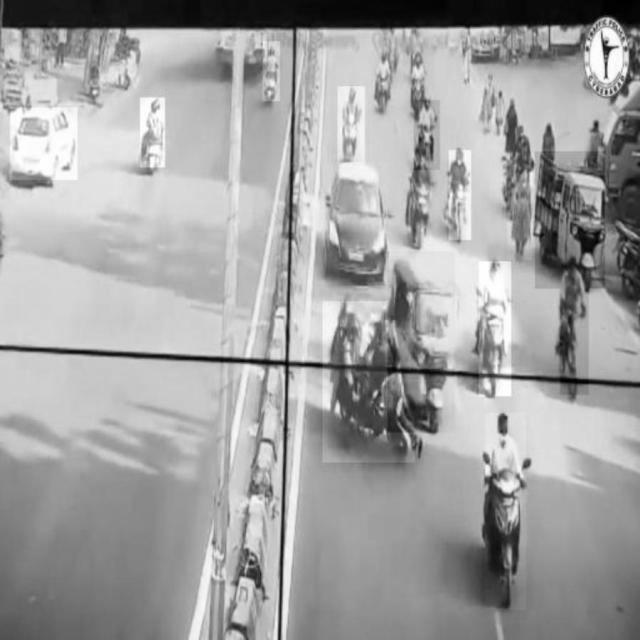accident: (323, 302, 415, 462)
person: (508, 173, 533, 261)
vehicle: (388, 252, 455, 432), (536, 151, 606, 288), (485, 412, 526, 610), (328, 162, 390, 284), (11, 108, 78, 180), (479, 261, 511, 395), (560, 260, 588, 396), (338, 87, 365, 164), (449, 150, 471, 240), (411, 153, 431, 249), (414, 100, 440, 171), (140, 98, 165, 168), (263, 41, 280, 101)
